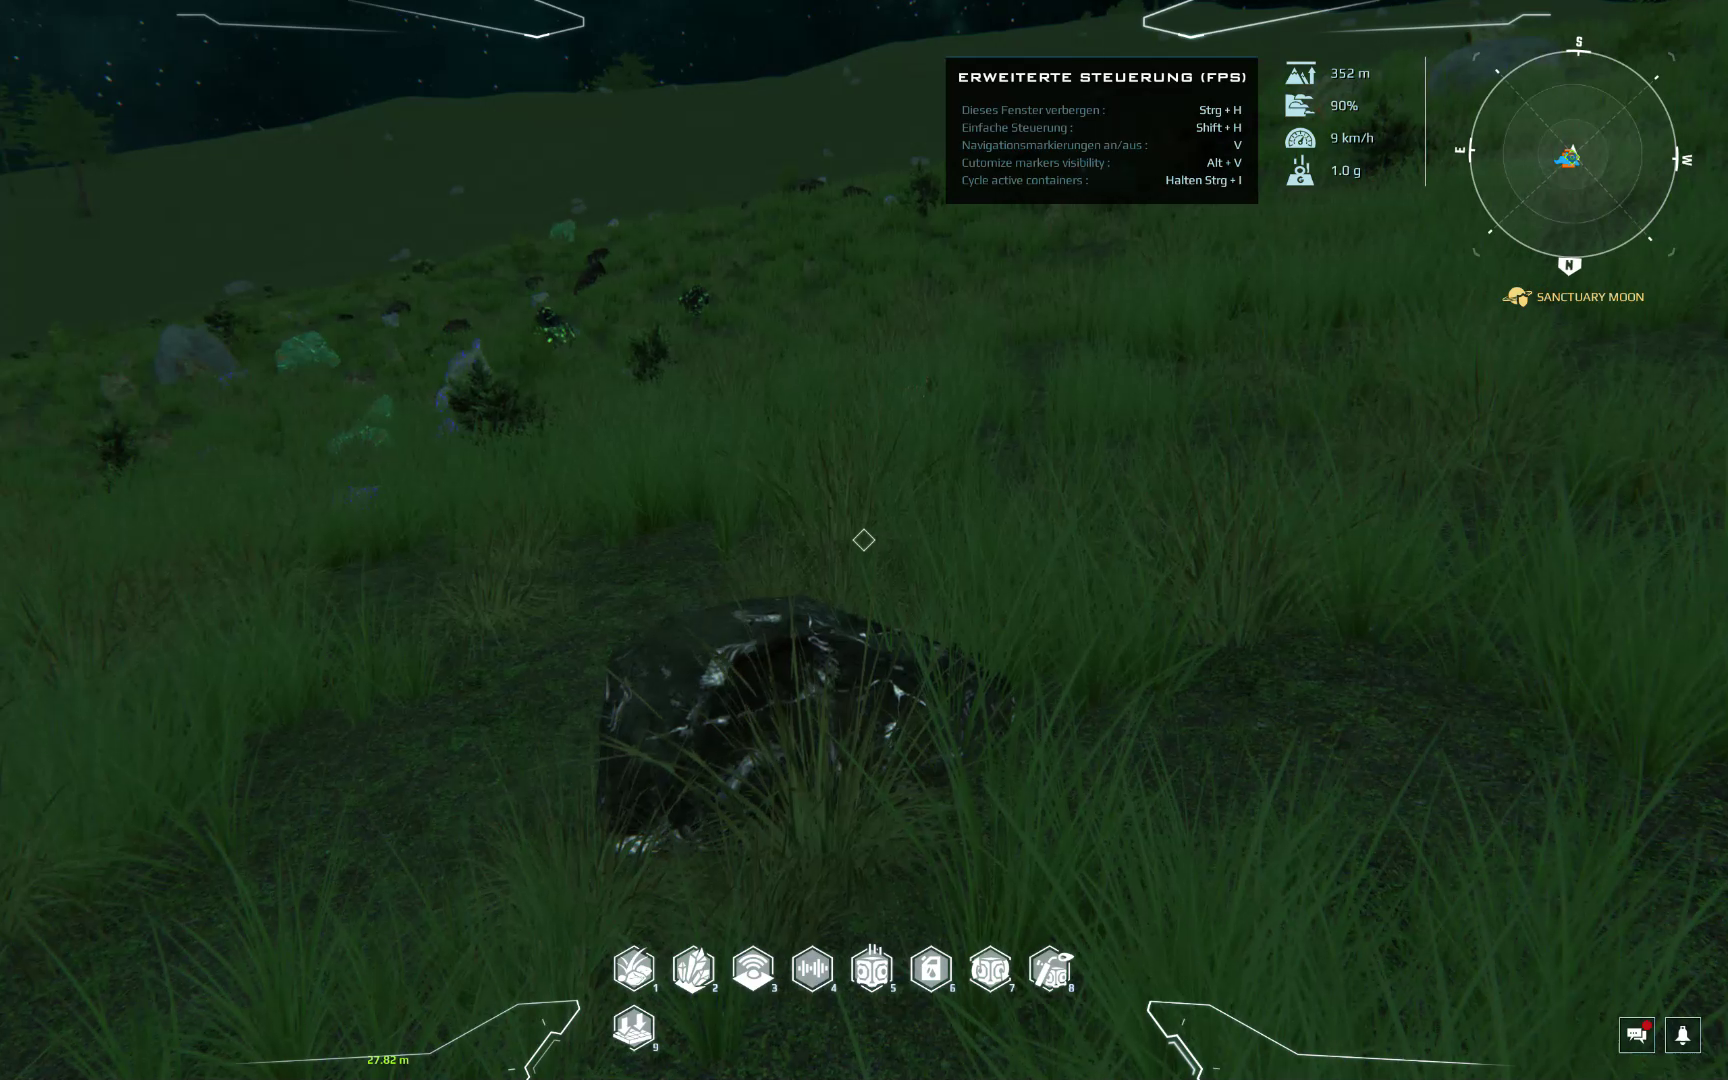Ore: (588, 589, 1021, 873), (327, 386, 397, 463), (265, 327, 348, 375), (333, 478, 403, 511), (531, 309, 580, 351), (572, 244, 610, 297), (676, 277, 719, 315), (778, 175, 825, 197), (546, 216, 580, 243), (435, 316, 475, 332), (384, 296, 412, 314), (838, 185, 875, 198), (332, 310, 355, 324)
